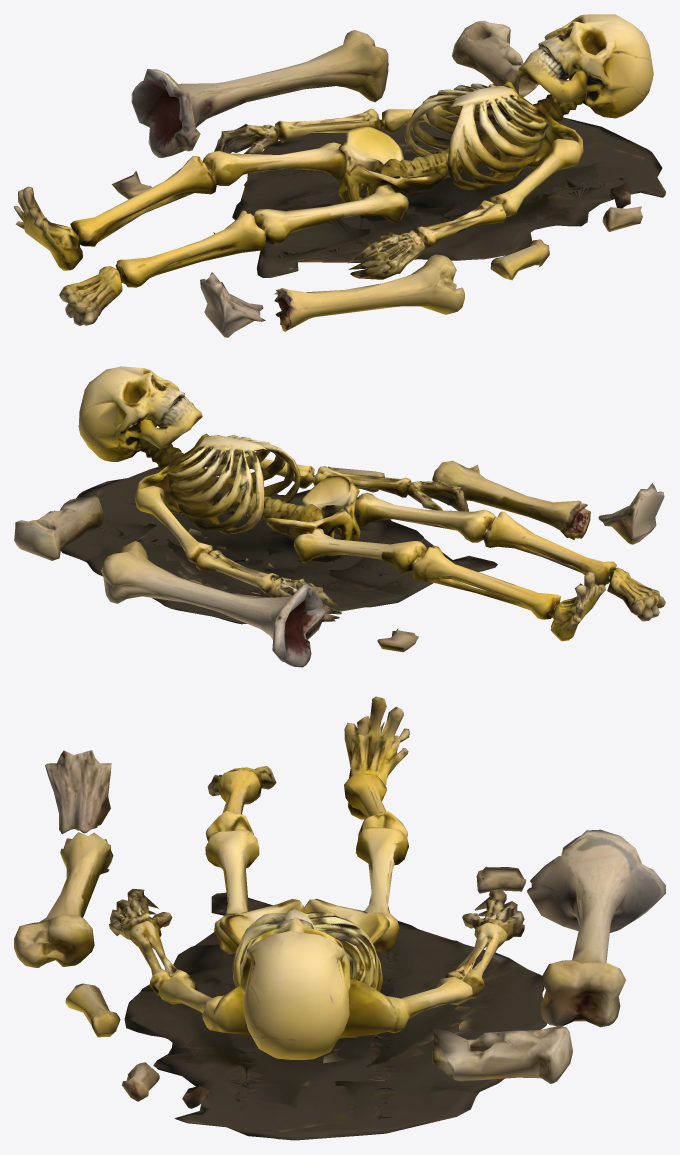
The model's file is RandomBones3.opt.glb.
The picture shows the model from 3 angles, top to bottom: view 1: azimuth 30°, elevation 25°; view 2: azimuth 150°, elevation 25°; view 3: azimuth 270°, elevation 25°; orthographic projection. The views are drawn at different scales.
Visible parts, largest first — view 1: node_0; view 2: node_0; view 3: node_0.
Boxes of the visible parts, x1=… form: node_0: x1=14, y1=14, x2=665, y2=337; node_0: x1=14, y1=366, x2=665, y2=667; node_0: x1=14, y1=696, x2=665, y2=1140.
Bounding box in the file's own units: 1.13 × 0.2823 × 0.88.
Materials: 1 (1 with a texture image).
